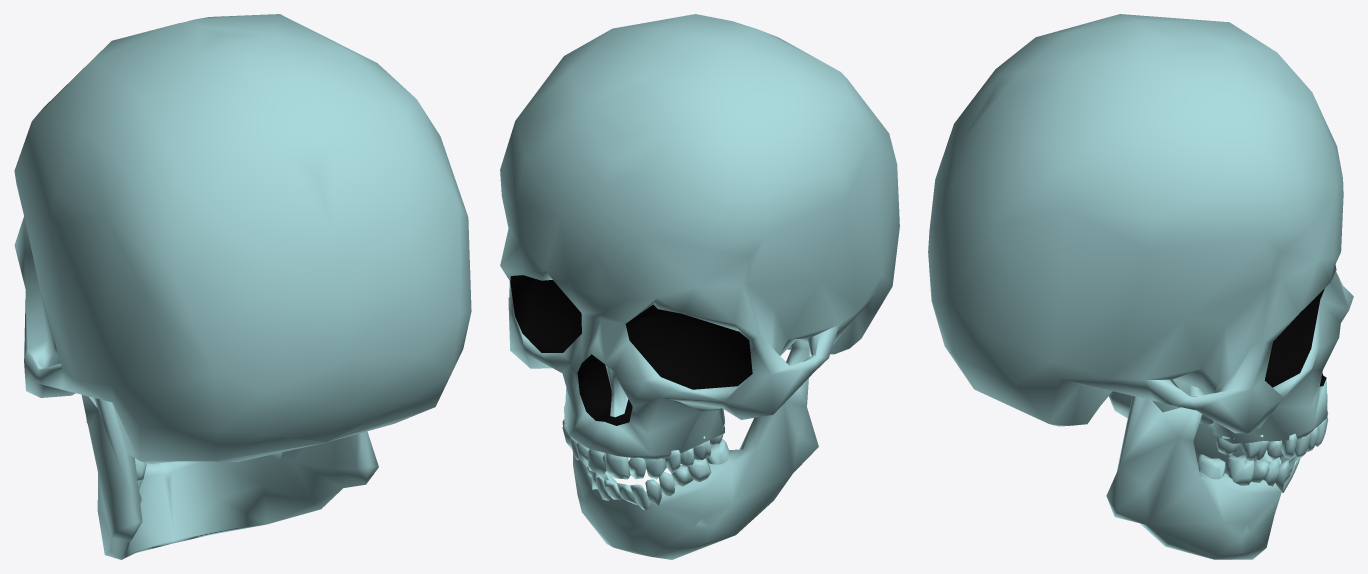
File: skelly_skull.fbx
3 views of the same model, side by side, from view 1: azimuth 30°, elevation 25°; view 2: azimuth 150°, elevation 25°; view 3: azimuth 270°, elevation 25° (orthographic). The views are drawn at different scales.
Visible parts, largest first — view 1: skelly_skull; view 2: skelly_skull; view 3: skelly_skull.
Boxes of the visible parts, bbox=[...] form: skelly_skull: bbox=[14, 14, 471, 559]; skelly_skull: bbox=[500, 14, 899, 559]; skelly_skull: bbox=[928, 14, 1353, 559].
Bounding box in the file's own units: 18.02 × 26.18 × 19.91.
